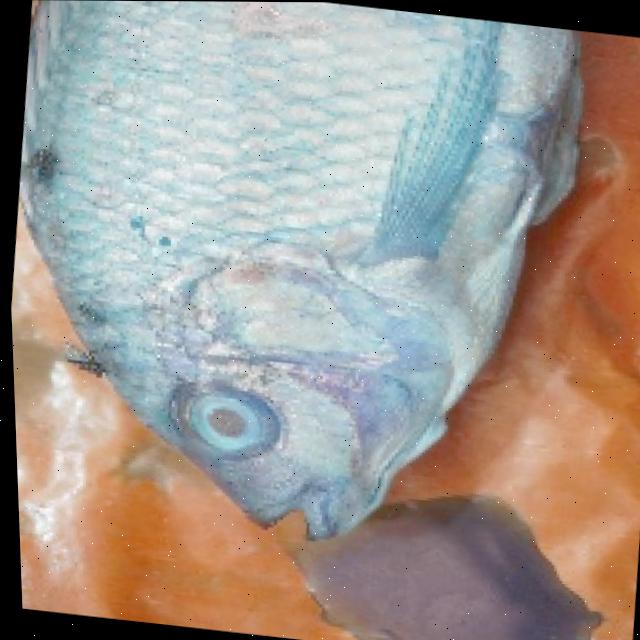Non-Fresh: (164, 364, 287, 473)
